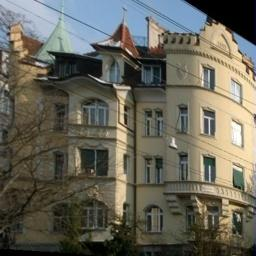building: (0, 20, 256, 249)
